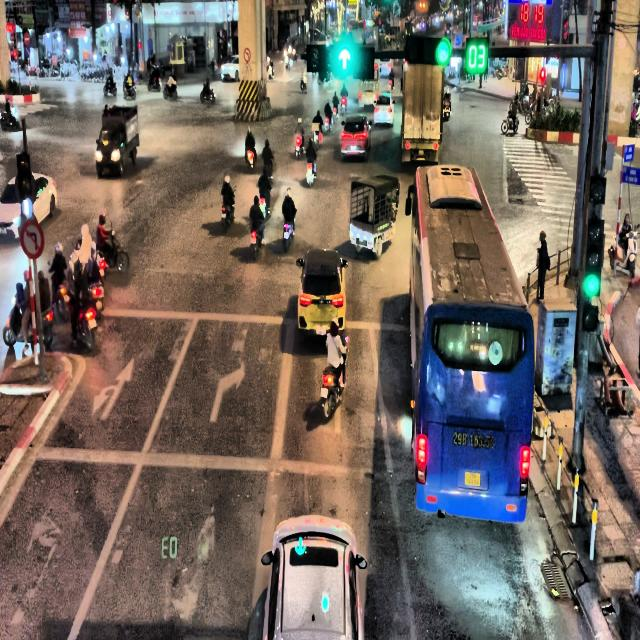BUS: (406, 163, 534, 523)
CAR: (248, 514, 367, 639), (296, 248, 348, 342), (0, 171, 57, 239), (340, 114, 371, 160), (372, 92, 394, 126), (221, 55, 239, 82)
MOTORBIKE: (2, 295, 54, 349), (320, 337, 349, 419), (65, 284, 98, 352), (47, 260, 69, 322), (100, 228, 129, 272), (250, 221, 264, 260), (220, 202, 234, 234), (501, 112, 519, 134), (283, 218, 294, 252), (148, 66, 161, 91), (259, 190, 270, 219), (306, 158, 316, 187), (163, 80, 177, 100), (245, 144, 256, 169), (123, 79, 136, 99), (200, 86, 215, 102), (103, 79, 117, 96), (295, 133, 304, 158), (443, 92, 451, 120), (300, 76, 307, 92), (324, 114, 330, 131)
